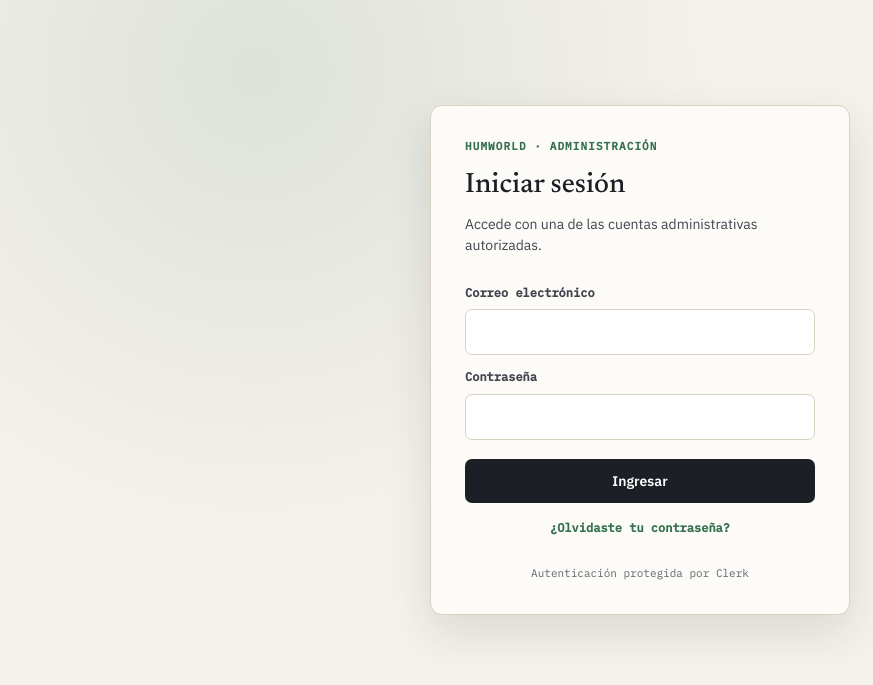
Test: SignInPage › shows Clerk password errors in Spanish
In the field labelled "Correo electrónico": (640, 332) [465,309,815,355], type "admin@example.com"
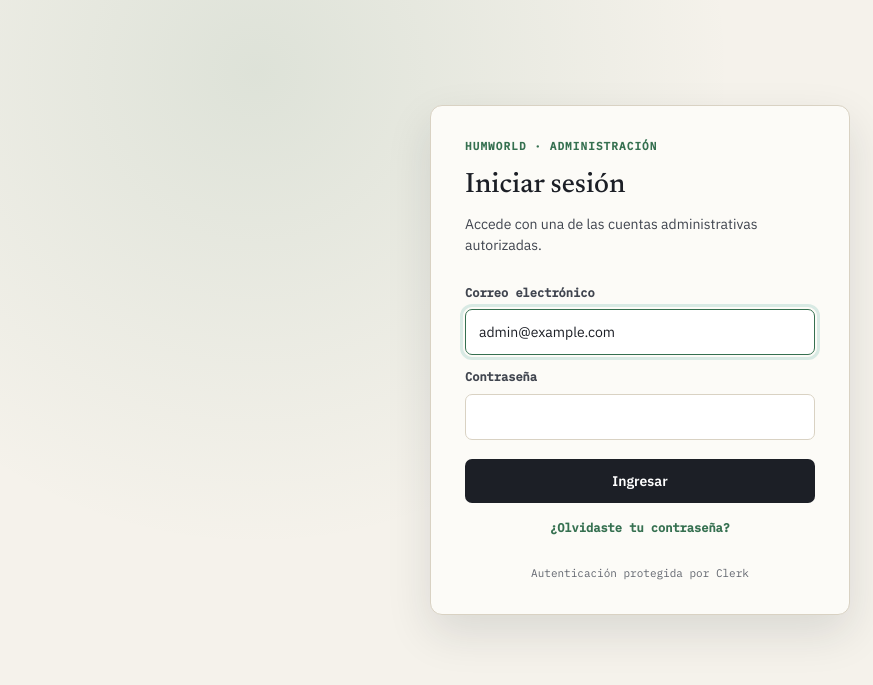
In the password field labelled "Contraseña": (640, 417) [465,394,815,440], type "incorrecta"
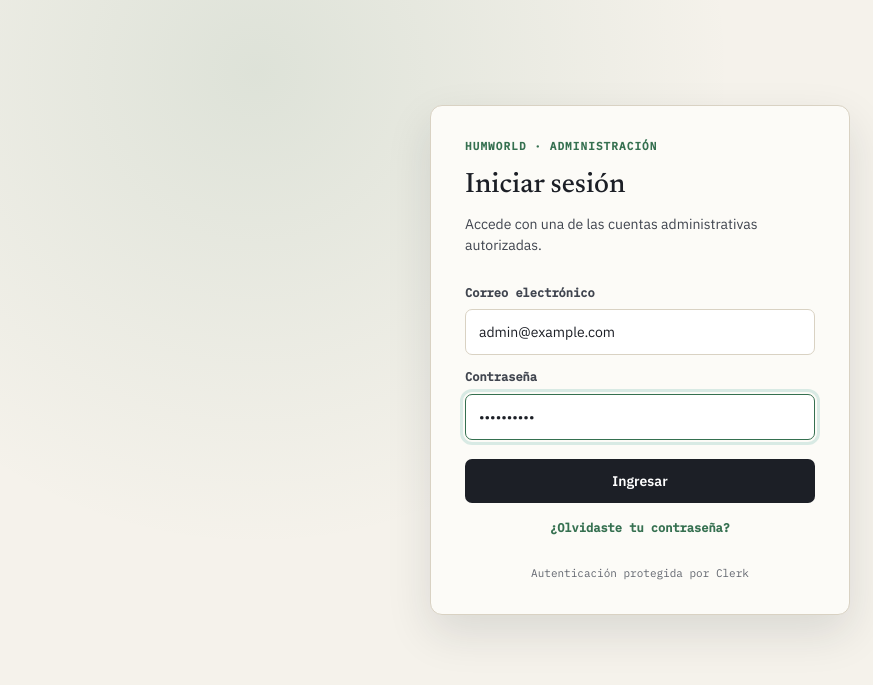
Click the button "Ingresar": (640, 481) [465,459,815,503]
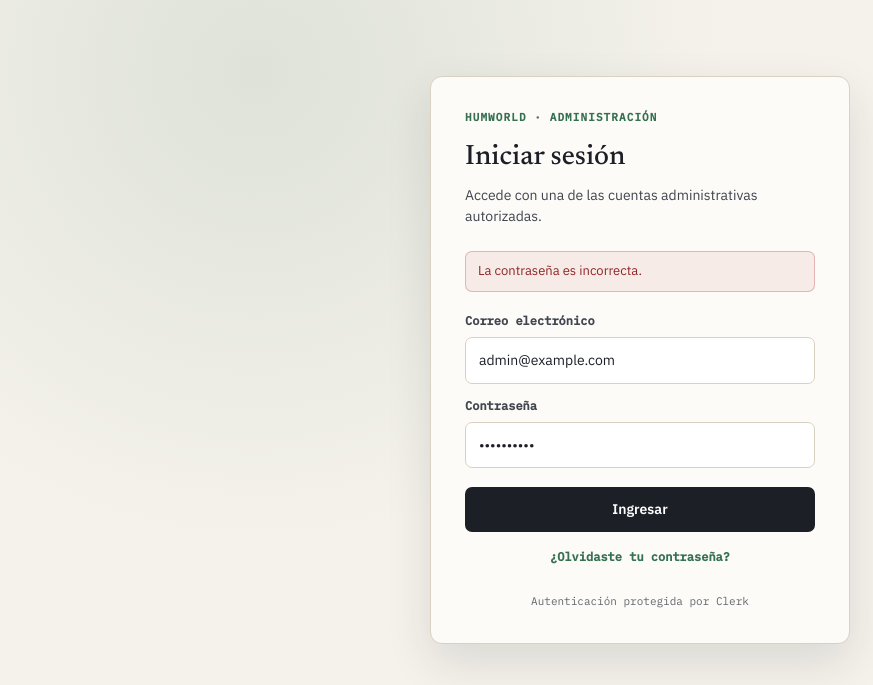
Check: the message reads "La contraseña es incorrecta.", box [478,262,642,279]
